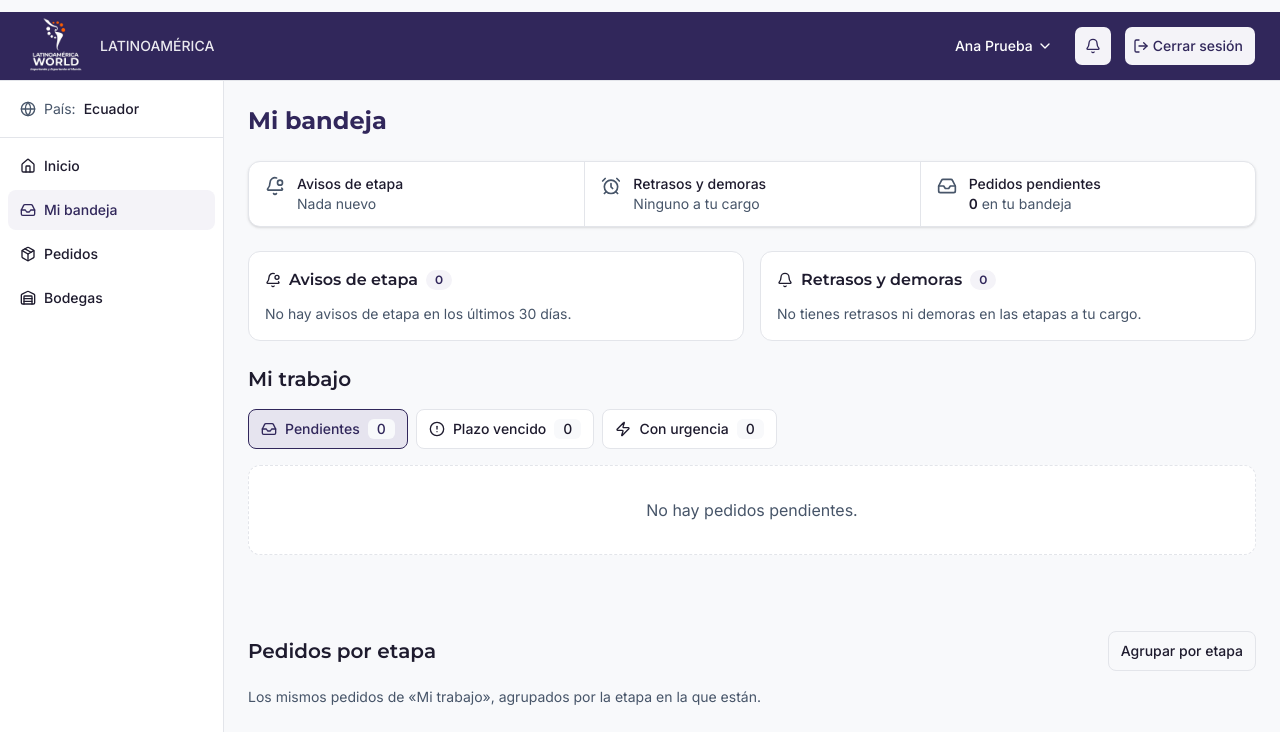
Avisos ADR-0032: campana y bandeja con API MSW › vacío explícito en ambas superficies, contador cero y no marca leído
The image size is (1280, 732).
Expected: the text "No hay avisos de etapa en los últimos 30 días." is shown, [265,305,572,322]
Click the button named "Notificaciones:": [1093, 46] box [1074,26,1112,66]
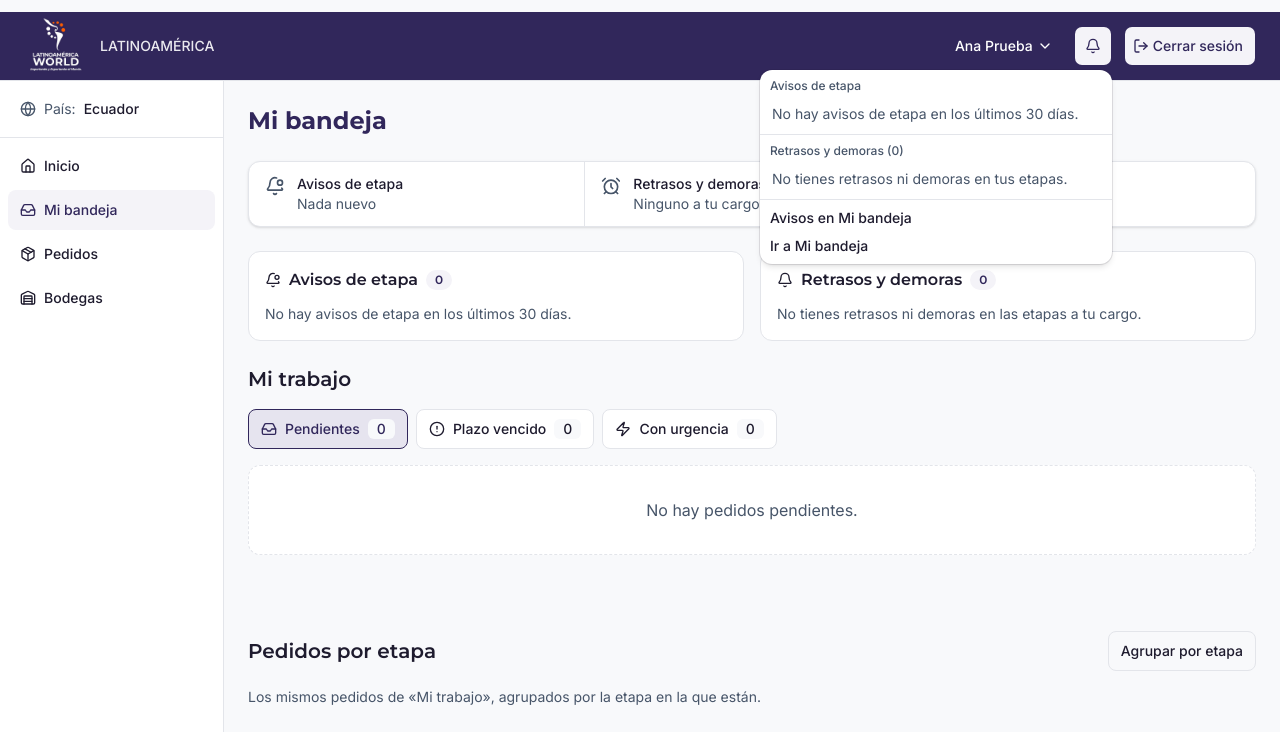
Now the 1st text "No hay avisos de etapa en los últimos 30 días." is shown, box [772,105,1078,122]
